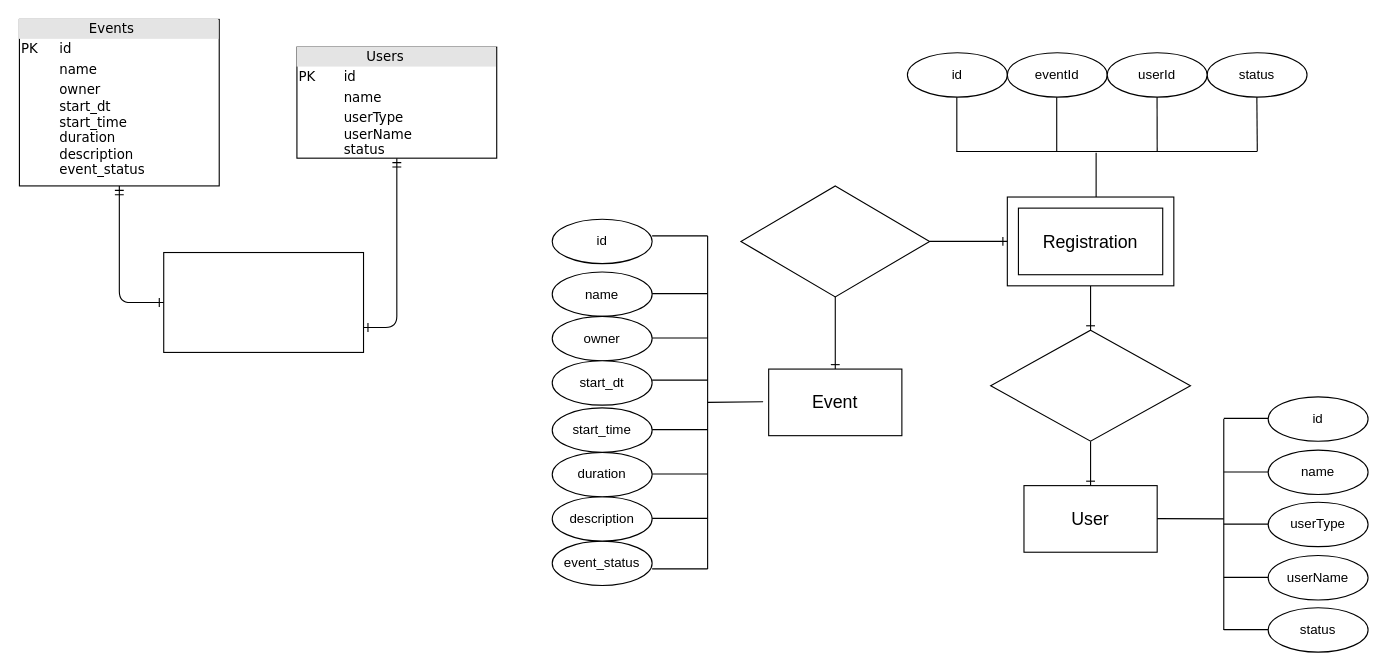
The diagram is 1388 pixels wide and 672 high, and some of its shapes have lost their labels. The shapes that lost their labels are listed below. From the top down, each one's centre as x and y in pixels, then its label:
the point at 835,241: Событие активно в ближайшую неделю
the point at 263,301: Registrations PK id FK1 eventId FK1 userId active
the point at 1090,385: Участвует в событии
